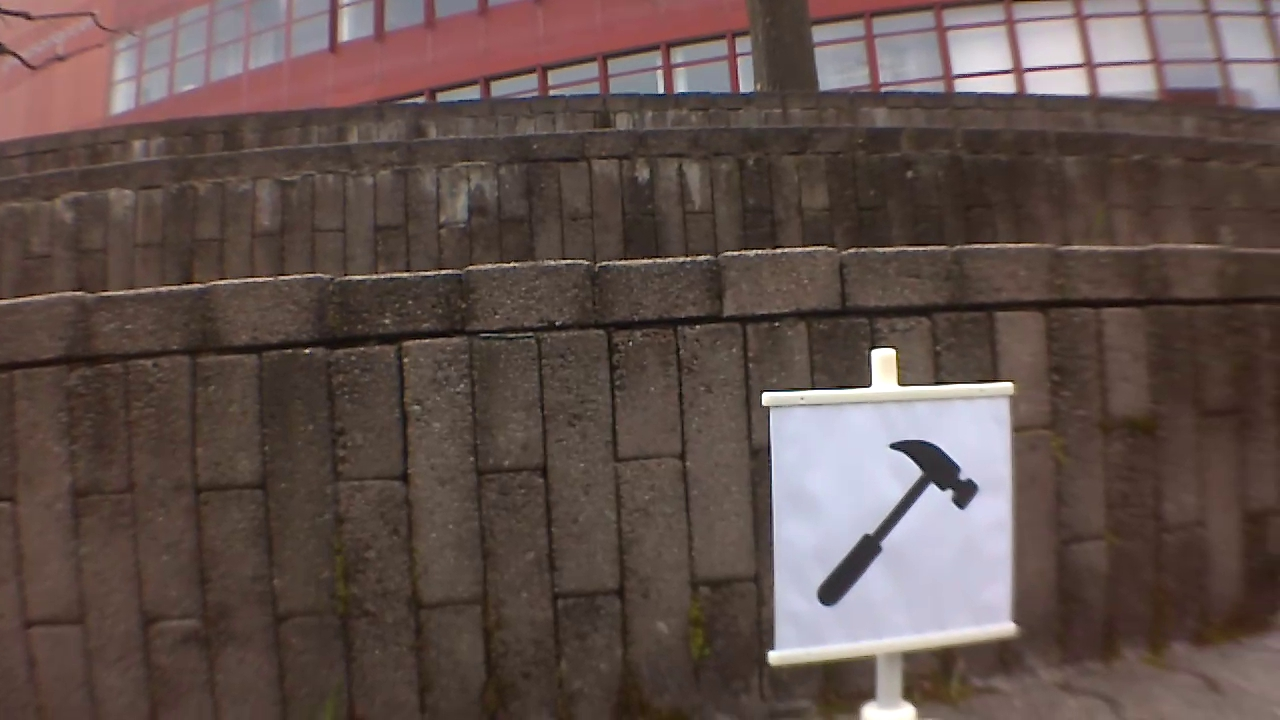hammer: (815, 438, 981, 609)
